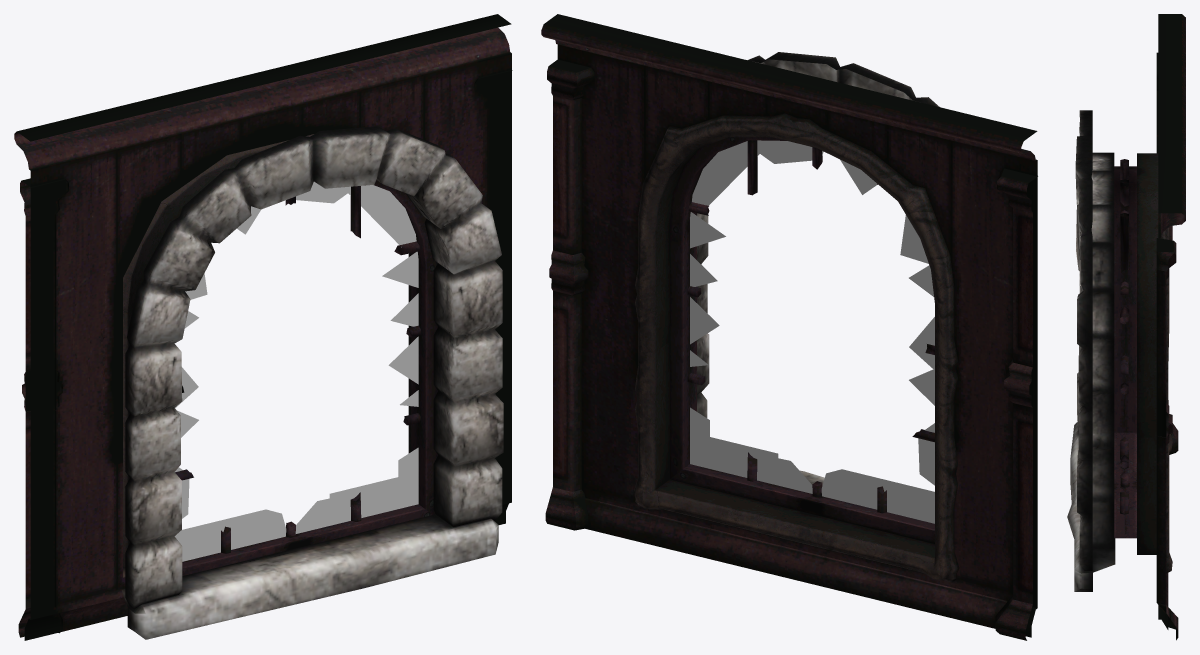
File: 42_window_large_blue_broken.dae
3 views of the same model, side by side, from view 1: azimuth 30°, elevation 25°; view 2: azimuth 150°, elevation 25°; view 3: azimuth 270°, elevation 25° (orthographic). The views are drawn at different scales.
Visible parts, largest first — view 1: window_large_02_blue11, polySurface639, polySurface640, window_frame_no_boards, broken_glass, polySurface699; view 2: window_large_02_blue11, window_frame_no_boards, broken_glass, polySurface639, polySurface699; view 3: window_frame_no_boards, polySurface639, window_large_02_blue11, polySurface699, polySurface640.
Part boxes in pixels (<box>): window_large_02_blue11: <box>14,14,512,640</box>; polySurface639: <box>125,126,503,609</box>; polySurface640: <box>121,514,498,639</box>; window_frame_no_boards: <box>123,134,437,577</box>; broken_glass: <box>174,181,418,561</box>; polySurface699: <box>175,186,420,553</box>; window_large_02_blue11: <box>541,14,1037,640</box>; window_frame_no_boards: <box>634,113,959,581</box>; broken_glass: <box>690,140,934,523</box>; polySurface639: <box>697,52,939,417</box>; polySurface699: <box>687,140,934,513</box>; window_frame_no_boards: <box>1114,153,1172,573</box>; polySurface639: <box>1075,110,1114,570</box>; window_large_02_blue11: <box>1156,14,1185,640</box>; polySurface699: <box>1120,159,1129,514</box>; polySurface640: <box>1067,422,1115,591</box>.
Size of the model in its own units: 4 by 4 by 1.01.
